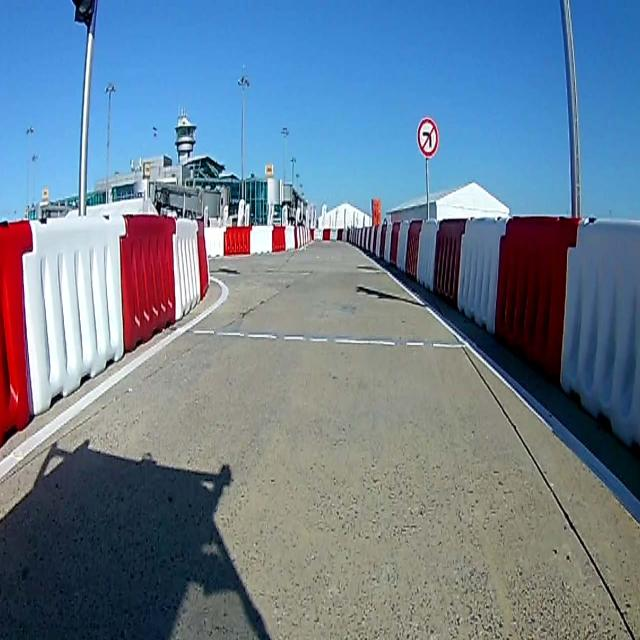soladonulmez: (416, 118, 439, 156)
